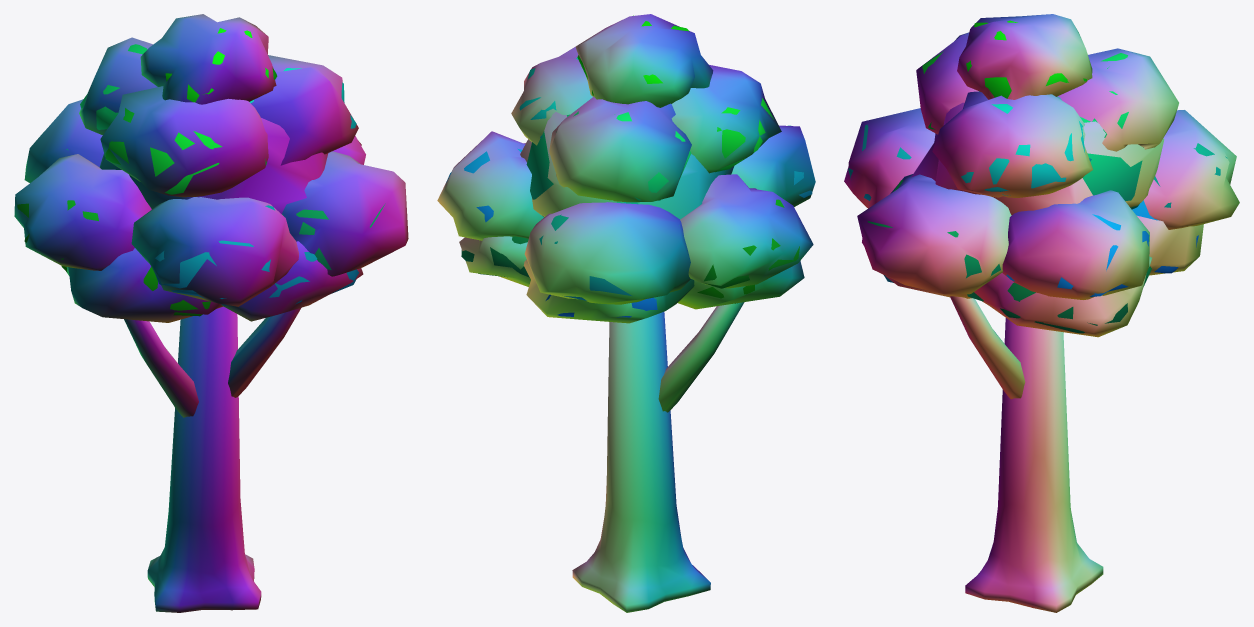
File: SM_Foliage_Plains_Oak_A_LOD1.fbx
3 renders of one model, left to right at view 1: azimuth 30°, elevation 25°; view 2: azimuth 150°, elevation 25°; view 3: azimuth 270°, elevation 25°, orthographic. The views are drawn at different scales.
Parts seen in each view (by area): view 1: SM_Foliage_Plains_Oak_A_LOD1; view 2: SM_Foliage_Plains_Oak_A_LOD1; view 3: SM_Foliage_Plains_Oak_A_LOD1.
Boxes of the visible parts, x1,y1,x2,y2 form: SM_Foliage_Plains_Oak_A_LOD1: (14,14,408,612); SM_Foliage_Plains_Oak_A_LOD1: (437,14,815,612); SM_Foliage_Plains_Oak_A_LOD1: (844,14,1239,612).
Bounding box in the file's own units: 2.53 × 3.91 × 2.47.
